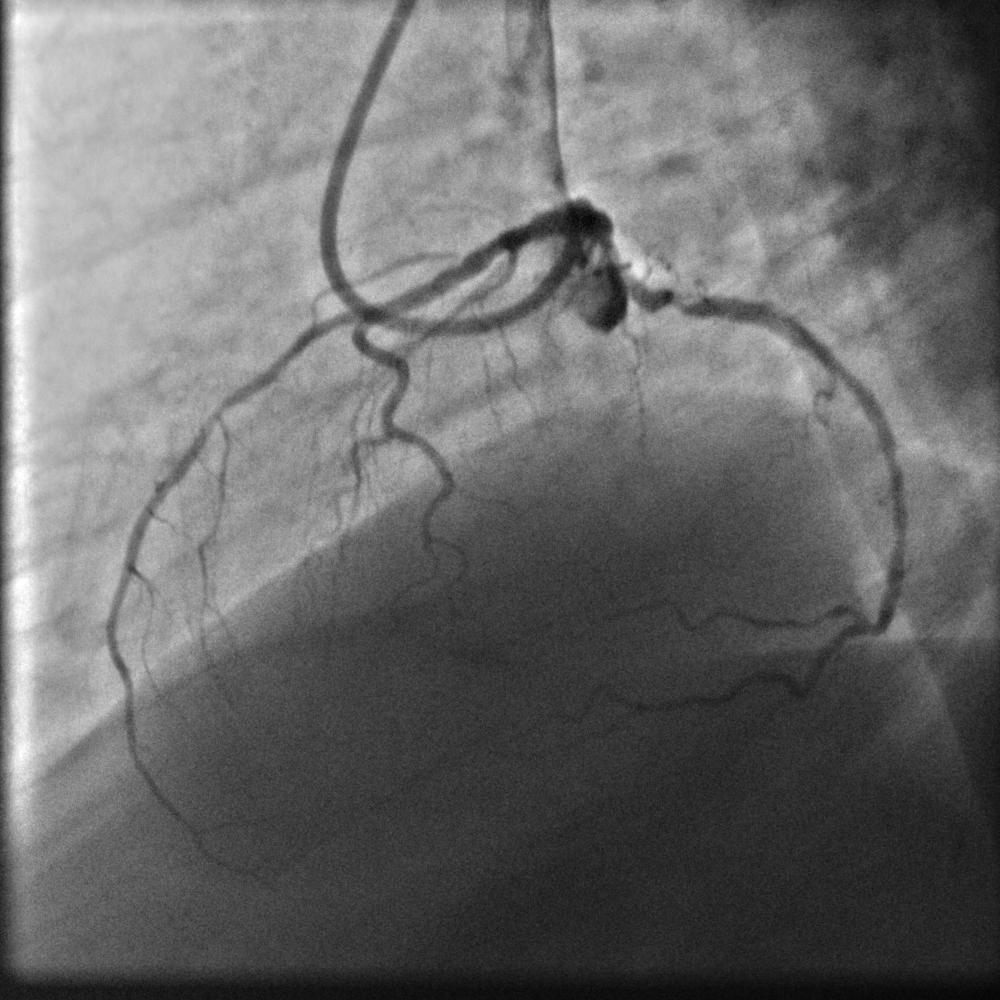Stenosis: (670, 290, 700, 322)
